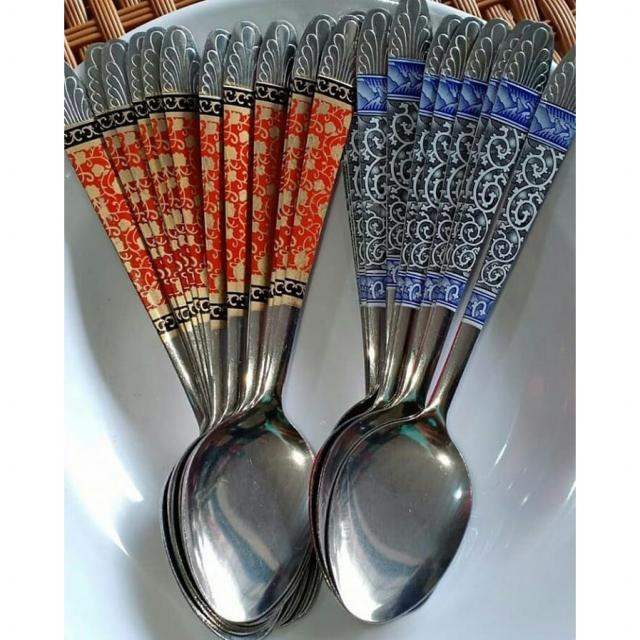spoon: (86, 91, 331, 634), (329, 69, 530, 640)
